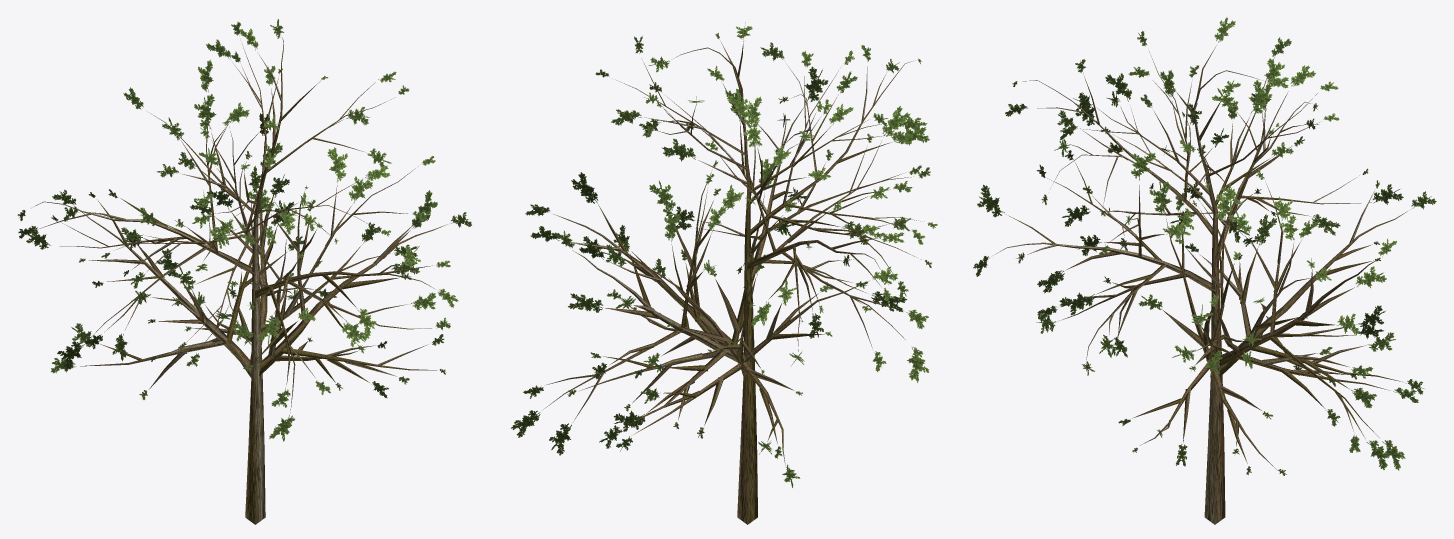
The model's file is dead_oak.glb.
The picture shows the model from 3 angles, left to right: view 1: azimuth 30°, elevation 25°; view 2: azimuth 150°, elevation 25°; view 3: azimuth 270°, elevation 25°; orthographic projection. The views are drawn at different scales.
Visible parts, largest first — view 1: trunk, leaves; view 2: trunk, leaves; view 3: trunk, leaves.
Part boxes in pixels (x1=…): trunk: x1=34, y1=38, x2=447, y2=524; leaves: x1=17, y1=19, x2=471, y2=441; trunk: x1=543, y1=41, x2=922, y2=524; leaves: x1=511, y1=22, x2=937, y2=487; trunk: x1=993, y1=45, x2=1407, y2=524; leaves: x1=973, y1=17, x2=1436, y2=475.
Bounding box in the file's own units: 4.32 × 5 × 4.24.
Materials: 2 (2 with a texture image).
